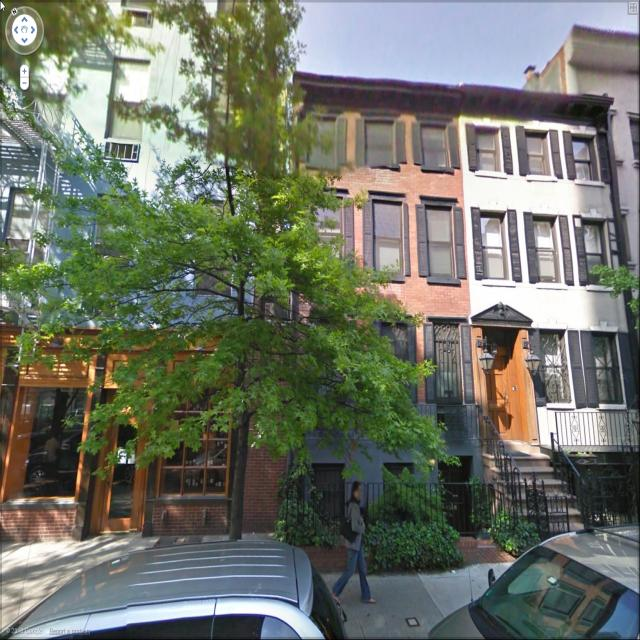b_1: (456, 94, 635, 491)
b_2: (3, 1, 283, 502), (281, 64, 484, 527)
